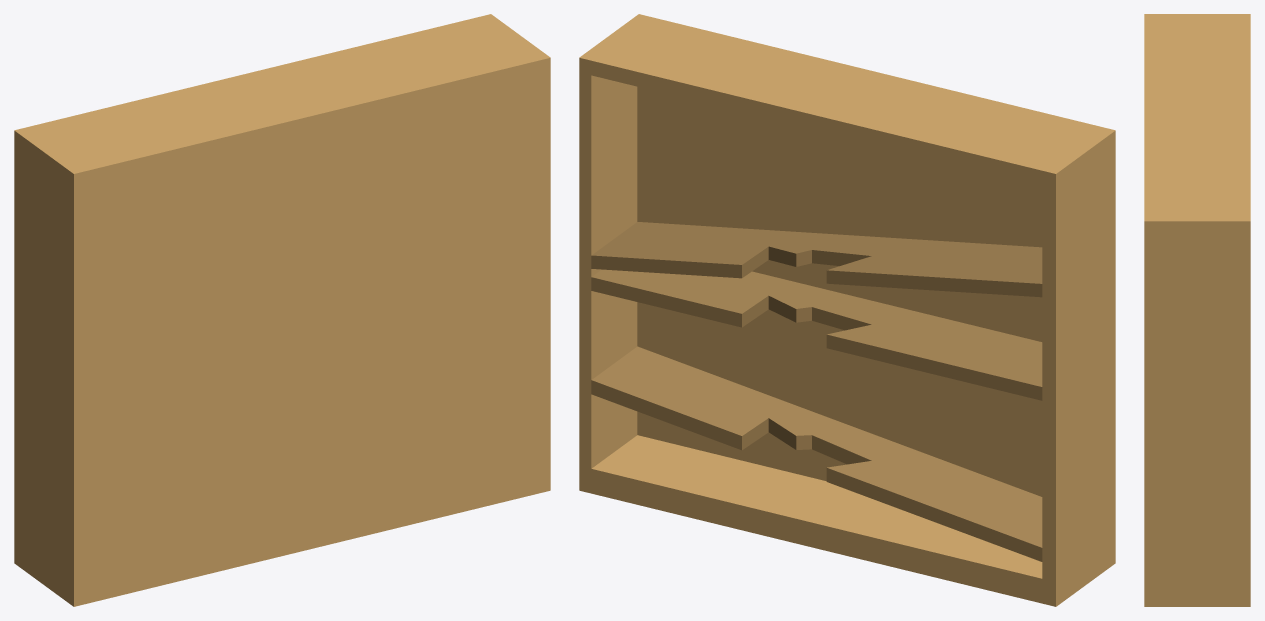
Rendered from SHELF3.fbx.
The picture shows the model from 3 angles, left to right: view 1: azimuth 30°, elevation 25°; view 2: azimuth 150°, elevation 25°; view 3: azimuth 270°, elevation 25°; orthographic projection. The views are drawn at different scales.
Parts seen in each view (by area): view 1: shelf5; view 2: shelf5; view 3: shelf5.
Part boxes in pixels (left/top/right/bottom): shelf5: left=14, top=14, right=550, bottom=606; shelf5: left=579, top=14, right=1115, bottom=606; shelf5: left=1144, top=14, right=1250, bottom=606.
Size of the model in its own units: 4.61 by 4 by 1.
